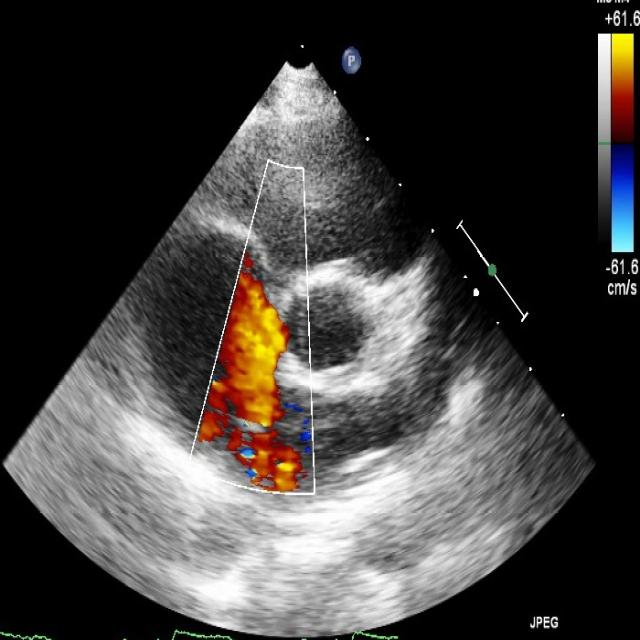ASDType2: (211, 275, 367, 495)
